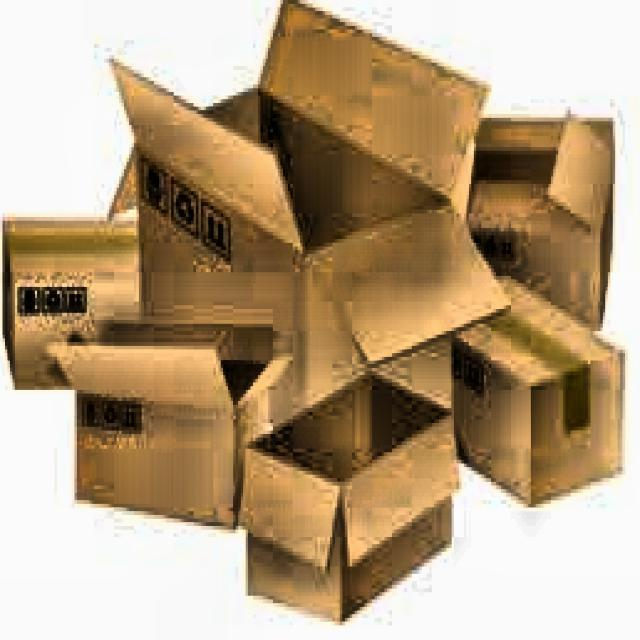cardboard: (2, 0, 626, 622)
